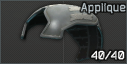Caiman Hybrid Ballistic Applique Black: (0, 0, 127, 64)
